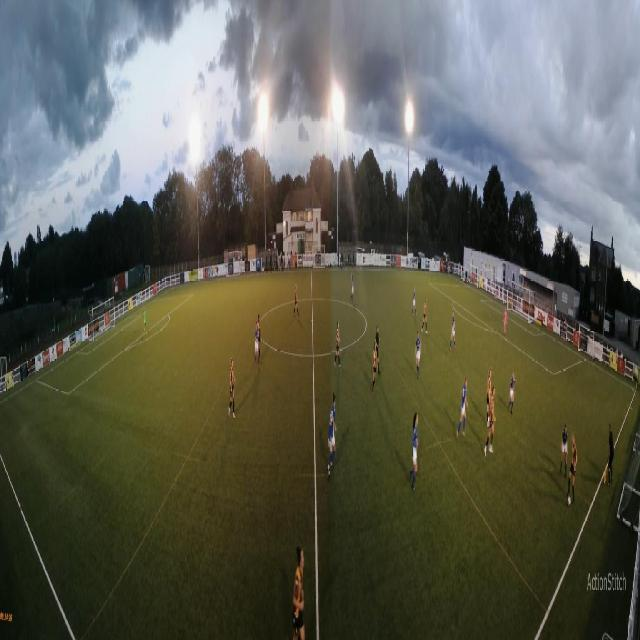ball: (567, 496, 571, 507)
player: (290, 539, 308, 640), (327, 390, 338, 482), (484, 383, 497, 459), (567, 430, 579, 504), (456, 376, 469, 441), (409, 411, 419, 492), (228, 356, 237, 421), (559, 422, 569, 479), (334, 319, 342, 370), (414, 330, 422, 380), (507, 372, 516, 416), (486, 366, 492, 427), (372, 341, 378, 397), (449, 311, 457, 352), (375, 325, 381, 375), (254, 321, 260, 370), (421, 294, 428, 335), (257, 314, 262, 362), (293, 283, 299, 318), (412, 286, 418, 317), (503, 306, 508, 337), (143, 306, 147, 337), (350, 273, 354, 303)
